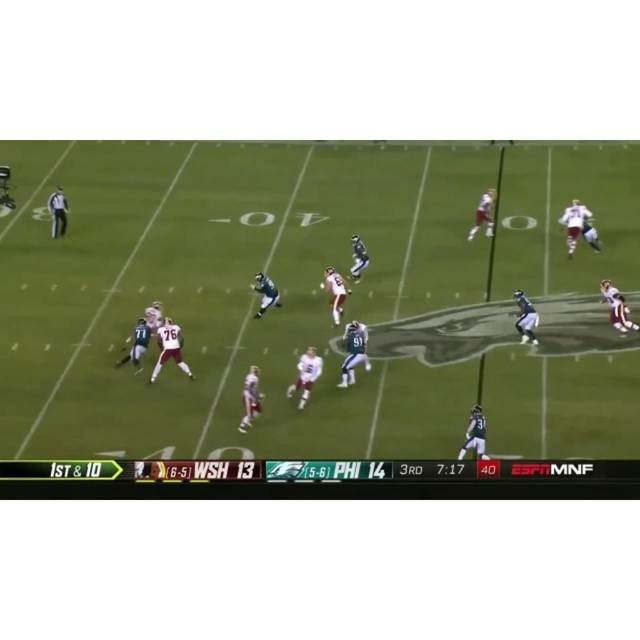american-football-player: (149, 316, 195, 386), (287, 346, 324, 411), (336, 323, 371, 389), (558, 198, 595, 260), (600, 279, 639, 336), (115, 317, 151, 376), (320, 267, 351, 327), (458, 405, 490, 460), (239, 366, 265, 433), (512, 289, 540, 347), (467, 188, 497, 241), (250, 271, 282, 320), (349, 235, 370, 282)
referee: (47, 183, 71, 241)
